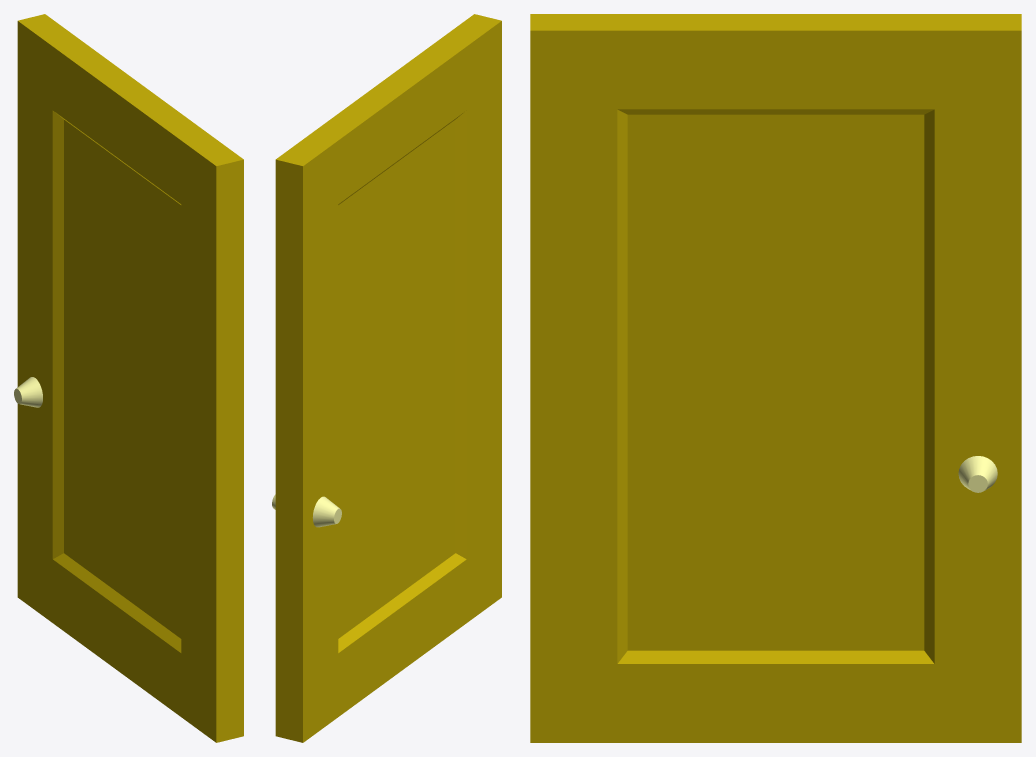
Rendered from Door.fbx.
3 renders of one model, left to right at view 1: azimuth 30°, elevation 25°; view 2: azimuth 150°, elevation 25°; view 3: azimuth 270°, elevation 25°, orthographic. The views are drawn at different scales.
Visible parts, largest first — view 1: Untitled.001; view 2: Untitled.001; view 3: Untitled.001.
Boxes of the visible parts, left/top/right/bottom form: Untitled.001: left=14, top=14, right=243, bottom=742; Untitled.001: left=272, top=14, right=501, bottom=742; Untitled.001: left=530, top=14, right=1021, bottom=742.
Bounding box in the file's own units: 18 × 160 × 100.
